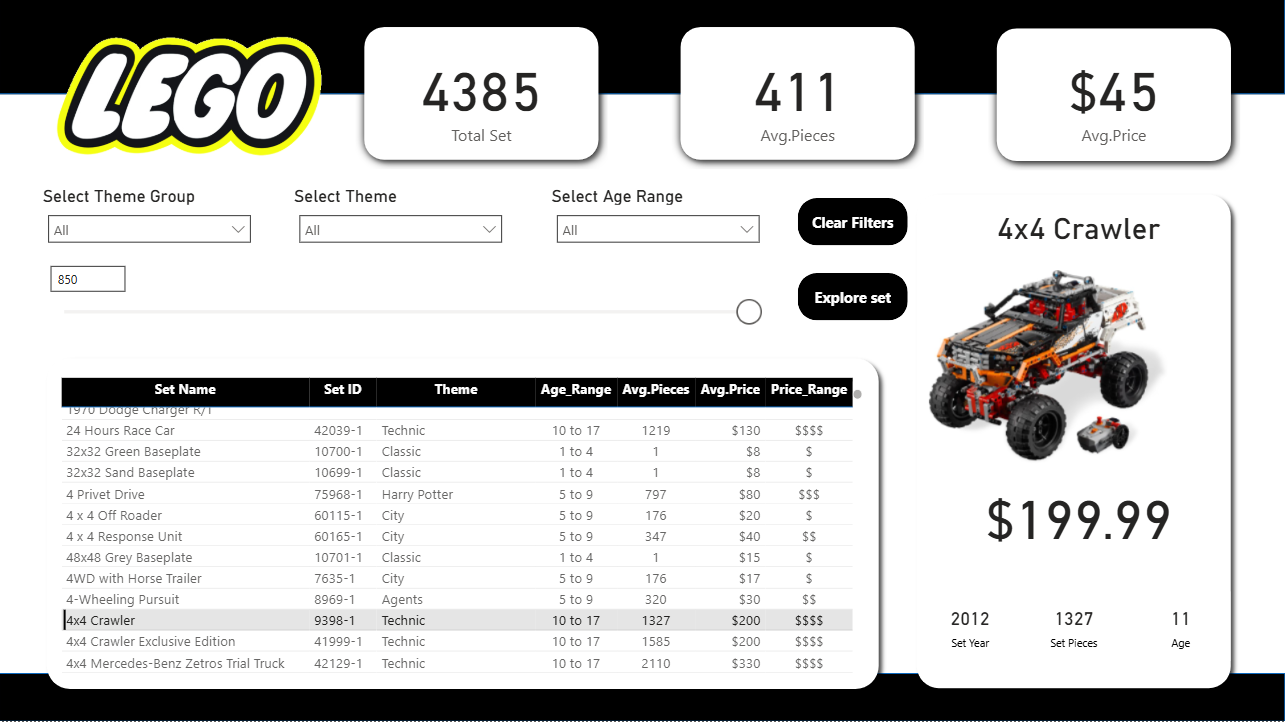

Layout of this report page (visuals, bound fields, positions):
{"tool":"powerbi","page":{"name":"Dashboard","canvas":[1280,720],"ordinal":0},"visuals":[{"type":"shape","box":[0,0,1280,95.8],"z":0},{"type":"shape","box":[0,671.7,1280,48.5],"z":1000},{"type":"shape","box":[354.9,20.2,251,150],"z":2000},{"type":"shape","box":[669.4,20.2,251,150],"z":3000},{"type":"shape","box":[984,21.6,251,150],"z":4000},{"type":"card","fields":{"Values":["lego_sets.Total Set"]},"box":[370.8,33.2,219.3,128.4],"z":5000},{"type":"card","fields":{"Values":["lego_sets.Avg.Price"]},"box":[999.8,33.2,219.3,128.4],"z":6000},{"type":"card","fields":{"Values":["lego_sets.Avg.Pieces"]},"box":[685.3,33.2,219.3,128.4],"z":7000},{"type":"shape","box":[904.6,186.1,330.4,509.3],"z":8000},{"type":"shape","box":[38.6,349.6,845.9,347.1],"z":9000},{"type":"slicer","title":"Select Theme Group","fields":{"Values":["lego_sets.themeGroup"]},"box":[39,186.1,222.2,69.3],"z":10000},{"type":"slicer","title":"Select Theme ","fields":{"Values":["lego_sets.theme"]},"box":[288.6,186.1,222.2,69.3],"z":11000},{"type":"slicer","title":"Select Age Range","fields":{"Values":["lego_sets.Age_Range"]},"box":[545.4,186.1,222.2,69.3],"z":12000},{"type":"tableEx","fields":{"Values":["lego_sets.name","lego_sets.set_id","lego_sets.theme","lego_sets.Age_Range","lego_sets.Avg.Pieces","lego_sets.Avg.Price","lego_sets.Price_Range"]},"box":[56.3,373.7,807.9,308.8],"z":13000},{"type":"simpleImageEBC4593F96F1425FB3D84C5BF02B5075","fields":{"imageURL":["lego_sets.ImageURL"],"altText":["lego_sets.ImageURL"]},"box":[920.5,266.2,298.6,202.8],"z":14000},{"type":"card","fields":{"Values":["lego_sets.Selected Set Price"]},"box":[972.8,486.4,204,73.4],"z":15000},{"type":"card","fields":{"Values":["lego_sets.Selected Set Year"]},"box":[920.5,590.9,92.1,68.4],"z":16000},{"type":"card","fields":{"Values":["lego_sets.Selected Set Age"]},"box":[1127,590.9,98.3,68.4],"z":17000},{"type":"card","fields":{"Values":["lego_sets.Selected Set Pieces"]},"box":[1023.8,590.9,92.1,68.4],"z":18000},{"type":"card","fields":{"Values":["lego_sets.Selected Set Name"]},"box":[924.3,199,301,57.2],"z":19000},{"type":"image","box":[38.6,33.6,301,128.1],"z":20000},{"type":"actionButton","box":[794.9,199,109.5,47.3],"z":21000},{"type":"slicer","fields":{"Values":["Max price.Max price"]},"box":[39,256.8,728.6,80.8],"z":22000},{"type":"actionButton","box":[794.9,273.7,109.5,47.3],"z":22001}]}

Visuals, with their boxes in screenshot pixels (x1, y1, x2, y2), scaled from the page's 1280x720 canvas onto the 1285x722 screenshot:
shape: detection(0, 0, 1284, 96)
shape: detection(0, 674, 1284, 721)
shape: detection(356, 20, 608, 171)
shape: detection(672, 20, 924, 171)
shape: detection(988, 22, 1240, 172)
card - lego_sets.Total Set: detection(372, 33, 592, 162)
card - lego_sets.Avg.Price: detection(1004, 33, 1224, 162)
card - lego_sets.Avg.Pieces: detection(688, 33, 908, 162)
shape: detection(908, 187, 1240, 697)
shape: detection(39, 351, 888, 699)
"Select Theme Group" slicer: detection(39, 187, 262, 256)
"Select Theme " slicer: detection(290, 187, 513, 256)
"Select Age Range" slicer: detection(548, 187, 771, 256)
tableEx - lego_sets.name x lego_sets.set_id: detection(57, 375, 868, 684)
simpleImageEBC4593F96F1425FB3D84C5BF02B5075 - lego_sets.ImageURL x lego_sets.ImageURL: detection(924, 267, 1224, 470)
card - lego_sets.Selected Set Price: detection(977, 488, 1181, 561)
card - lego_sets.Selected Set Year: detection(924, 593, 1017, 661)
card - lego_sets.Selected Set Age: detection(1131, 593, 1230, 661)
card - lego_sets.Selected Set Pieces: detection(1028, 593, 1120, 661)
card - lego_sets.Selected Set Name: detection(928, 200, 1230, 257)
image: detection(39, 34, 341, 162)
actionButton: detection(798, 200, 908, 247)
slicer - Max price.Max price: detection(39, 258, 771, 339)
actionButton: detection(798, 274, 908, 322)
